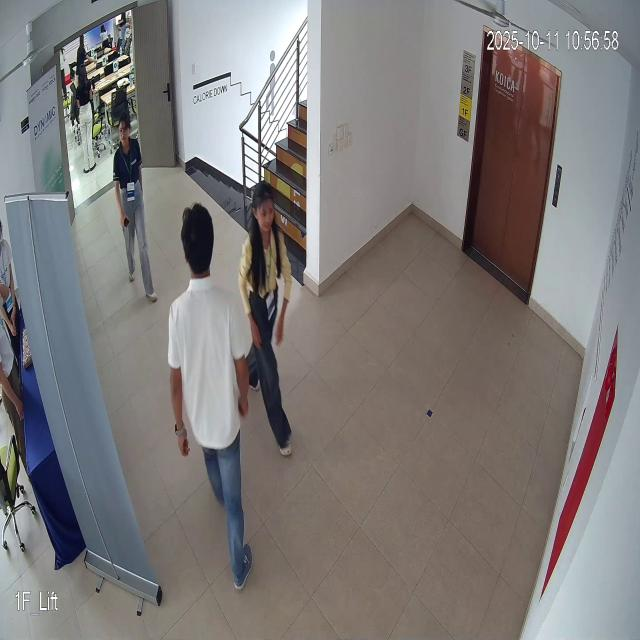face: (252, 177, 279, 254)
